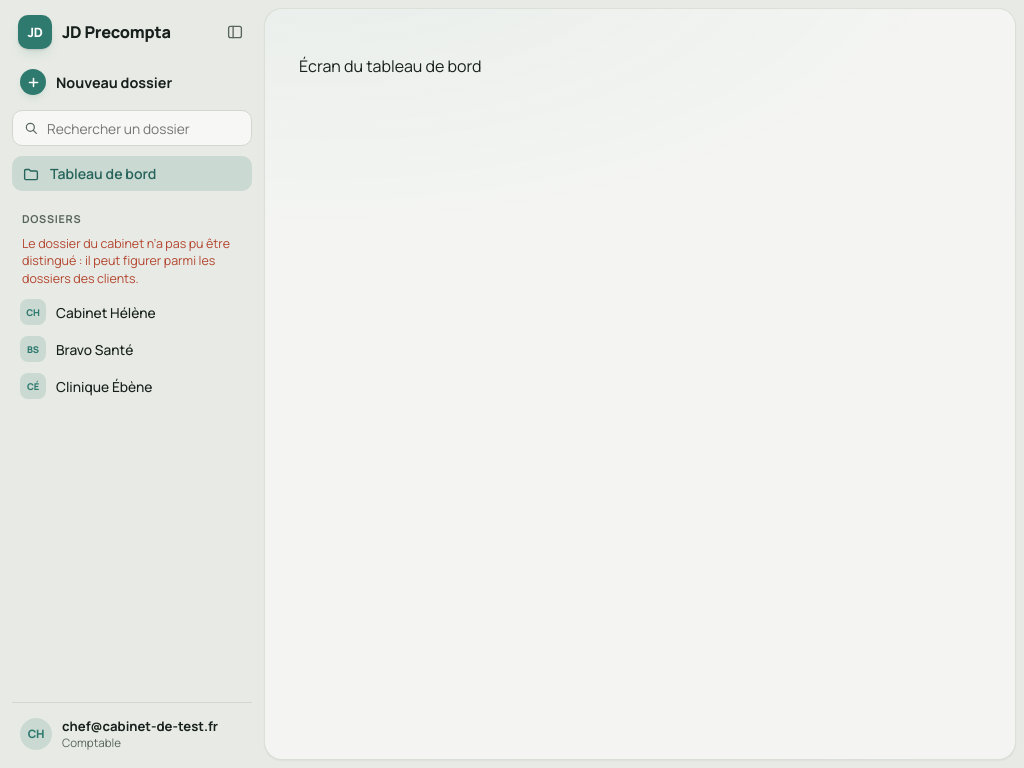
Barre latérale — le menu du compte › réserve l’apparence au chef de cabinet, comme sa page
Step 1. Click the button with aria-label "Compte de chef@cabinet-de-test.fr" → (132, 734), box [12,711,252,756]
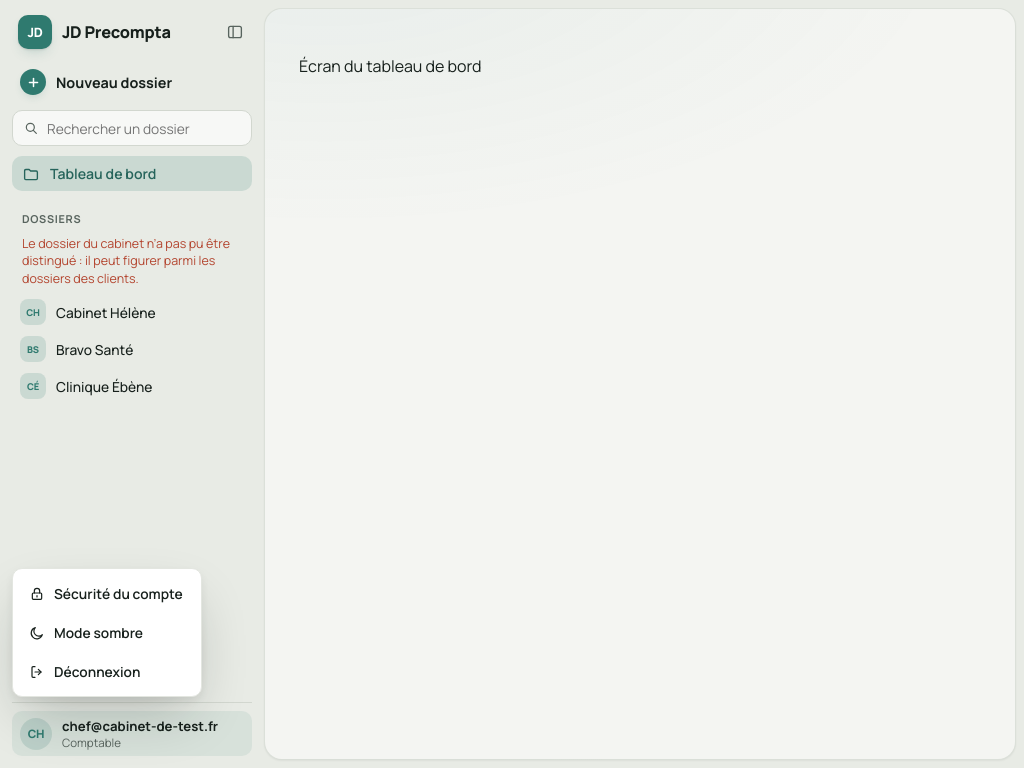
Result: the button "Déconnexion" is shown at [19,653,195,690]
